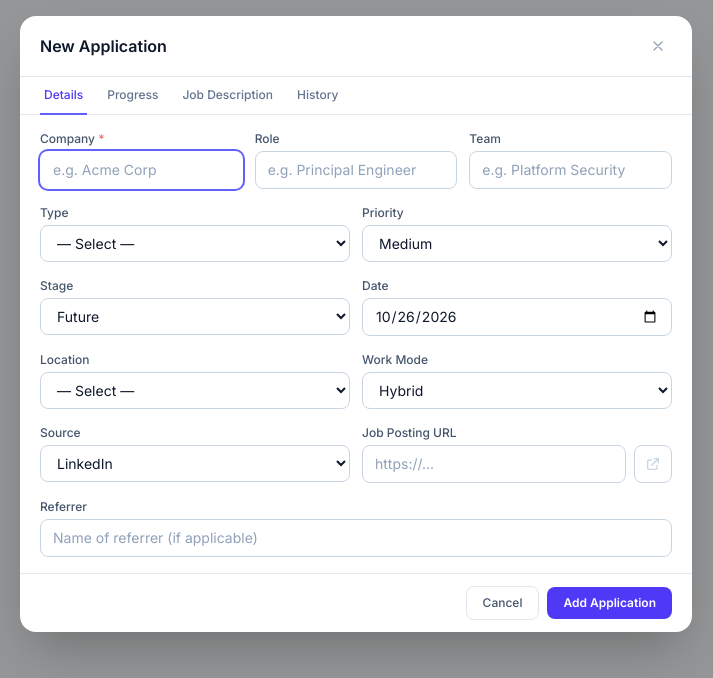
Test: ApplicationModal — tab navigation › switches to Progress tab on click
The image size is (713, 678).
Click the button "Progress" at (133, 96), box [103,77,162,115]
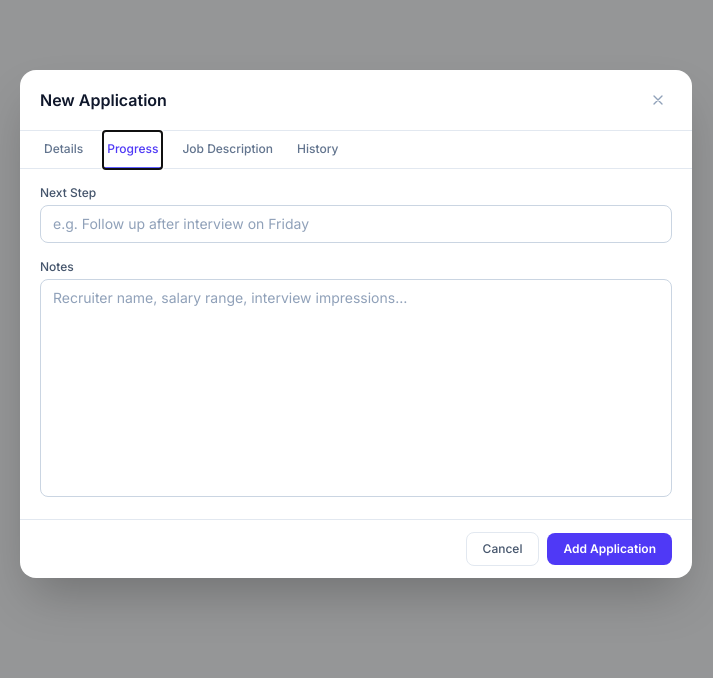
Expected: the field with placeholder "e.g. Follow up after interview on Friday" is shown, [40,205,672,243]
